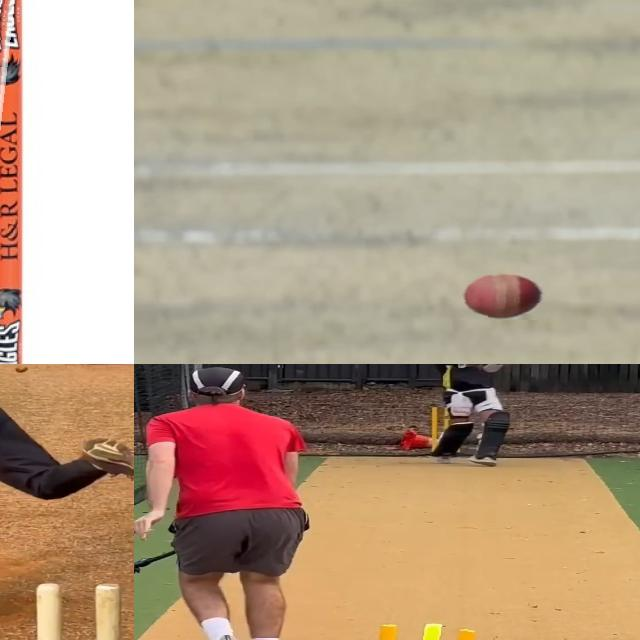Cricket ball: (459, 270, 551, 320), (16, 366, 28, 374)
Stumps: (0, 0, 27, 364), (33, 581, 134, 640)
